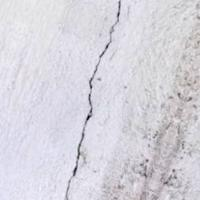crack: (64, 0, 141, 199)
